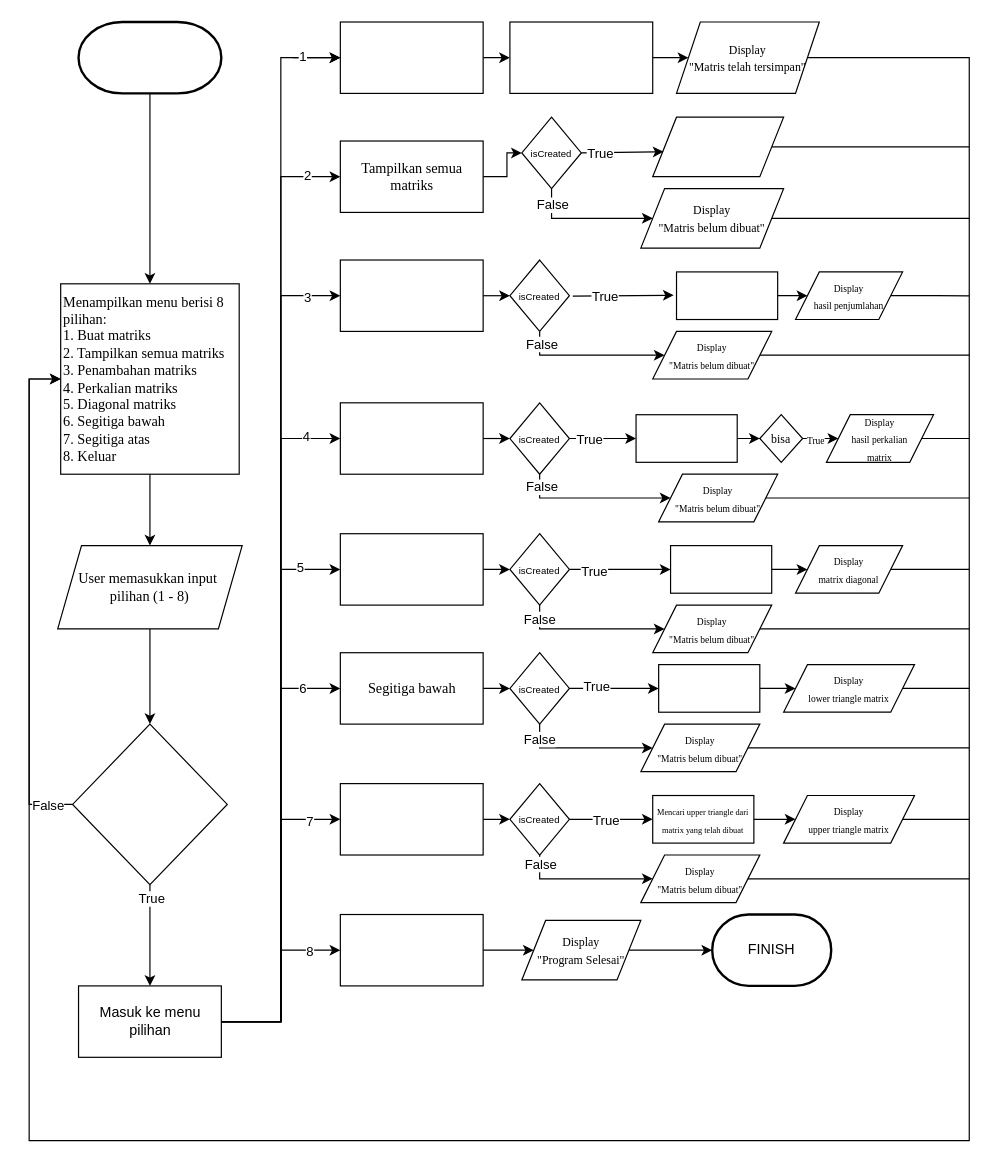
The diagram is 1000 pixels wide and 1171 high, and some of its shapes have lost their labels. Each missing label, with the box of its shape:
Apakah inputnya berupa bilangan dari 1 sampai 8: (71, 723, 227, 885)
Buat matriks: (339, 21, 483, 93)
Diagonal matriks: (339, 533, 483, 605)
Display Matrix yang dibuat: (652, 116, 784, 177)
Keluar: (339, 913, 483, 986)
Memasukkan nilai matrix dan mengubah isCreated = true: (509, 21, 653, 93)
Mencari diagonal matrix yang telah dibuat: (669, 544, 772, 593)
Mencari lower triangle dari matrix yang telah dibuat: (657, 663, 760, 712)
Mengalikan Matrix yang telah dibuat: (635, 414, 737, 462)
Menjumlahkan Matrix yang telah dibuat: (675, 271, 778, 320)
Penambahan matriks: (339, 259, 483, 331)
Perkalian matriks: (339, 402, 483, 474)
Segitiga atas: (339, 782, 483, 855)
START: (77, 20, 222, 94)
